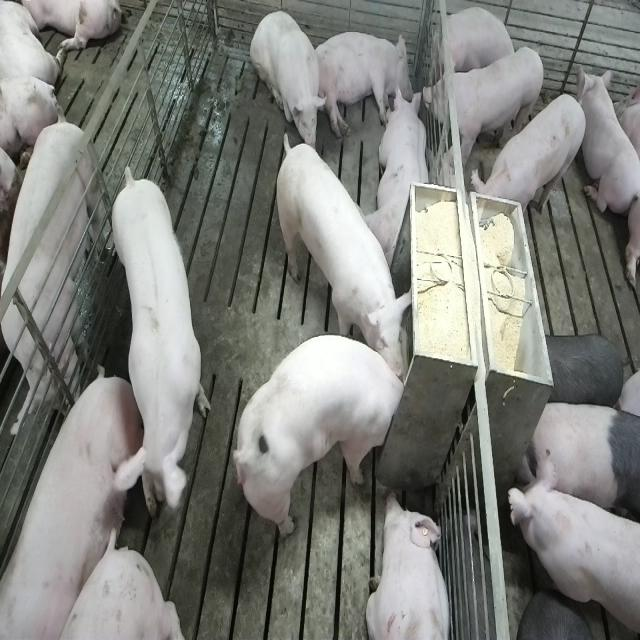Feeding: (230, 337, 408, 547), (274, 130, 414, 377)
Lateral_lying: (4, 362, 151, 635), (312, 29, 414, 138), (434, 6, 518, 95)
Sitting: (250, 8, 328, 155)
Standing: (109, 158, 208, 531), (0, 106, 102, 420), (505, 450, 638, 638), (473, 92, 588, 238), (421, 42, 545, 171), (522, 400, 638, 530)
Sternal_lying: (365, 491, 453, 640), (367, 85, 432, 267), (581, 68, 638, 222)
